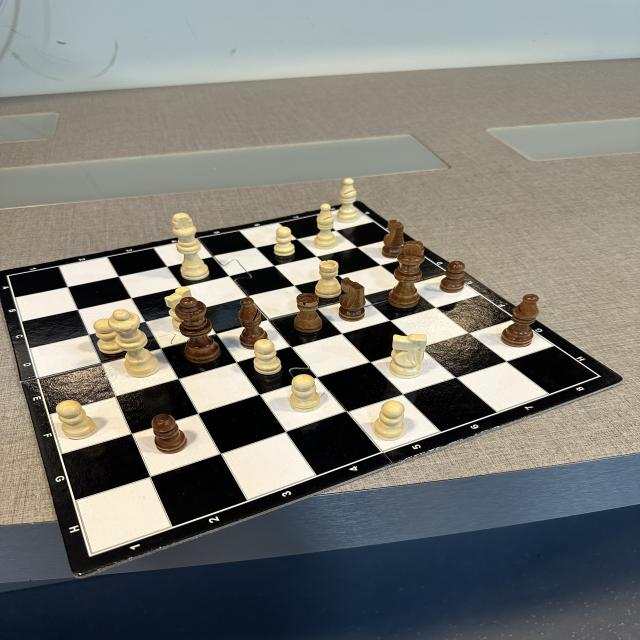Black-Bishop: (500, 294, 539, 348), (238, 297, 269, 350)
Black-King: (388, 240, 425, 308)
Black-Knight: (338, 277, 366, 322), (382, 220, 404, 258)
Black-Pawn: (151, 414, 188, 454), (439, 261, 465, 293)
Black-Queen: (174, 297, 221, 364)
Black-Rook: (293, 292, 323, 333)
White-Bishop: (314, 203, 337, 250), (336, 178, 359, 223)
White-King: (171, 213, 210, 281)
White-Knight: (390, 334, 428, 379), (164, 286, 191, 331)
White-Pawn: (55, 400, 97, 440), (373, 400, 405, 441), (289, 374, 321, 412), (94, 318, 125, 354), (253, 339, 282, 375), (274, 226, 296, 257)
White-Queen: (108, 308, 160, 378)
White-Rook: (314, 259, 341, 299)
